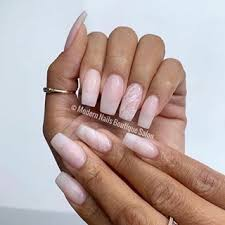nail: (49, 133, 86, 168), (53, 171, 88, 204), (74, 123, 112, 153), (62, 10, 88, 52), (118, 82, 143, 123), (100, 72, 123, 116), (121, 132, 159, 158), (80, 68, 101, 107), (139, 95, 158, 129)
